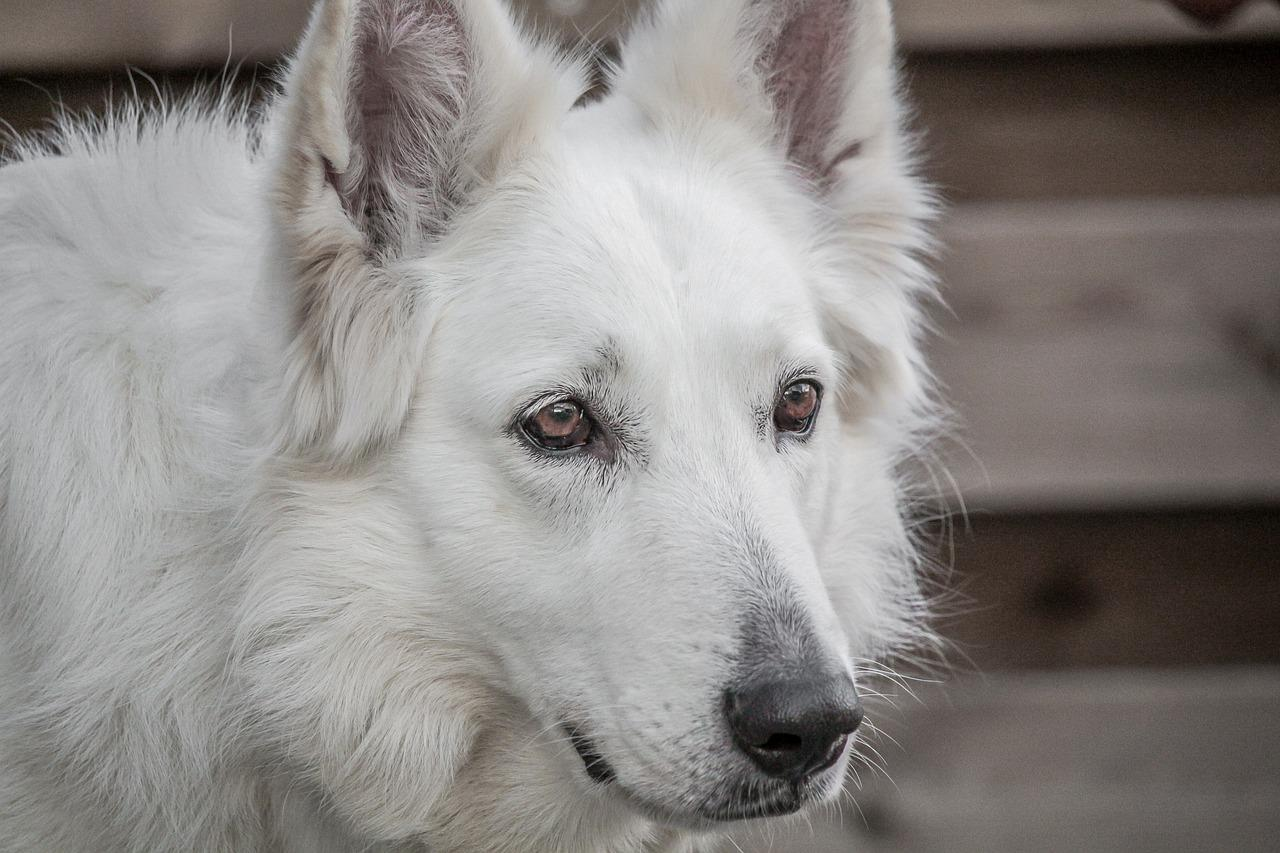german_shepherd: (247, 0, 1008, 830)
